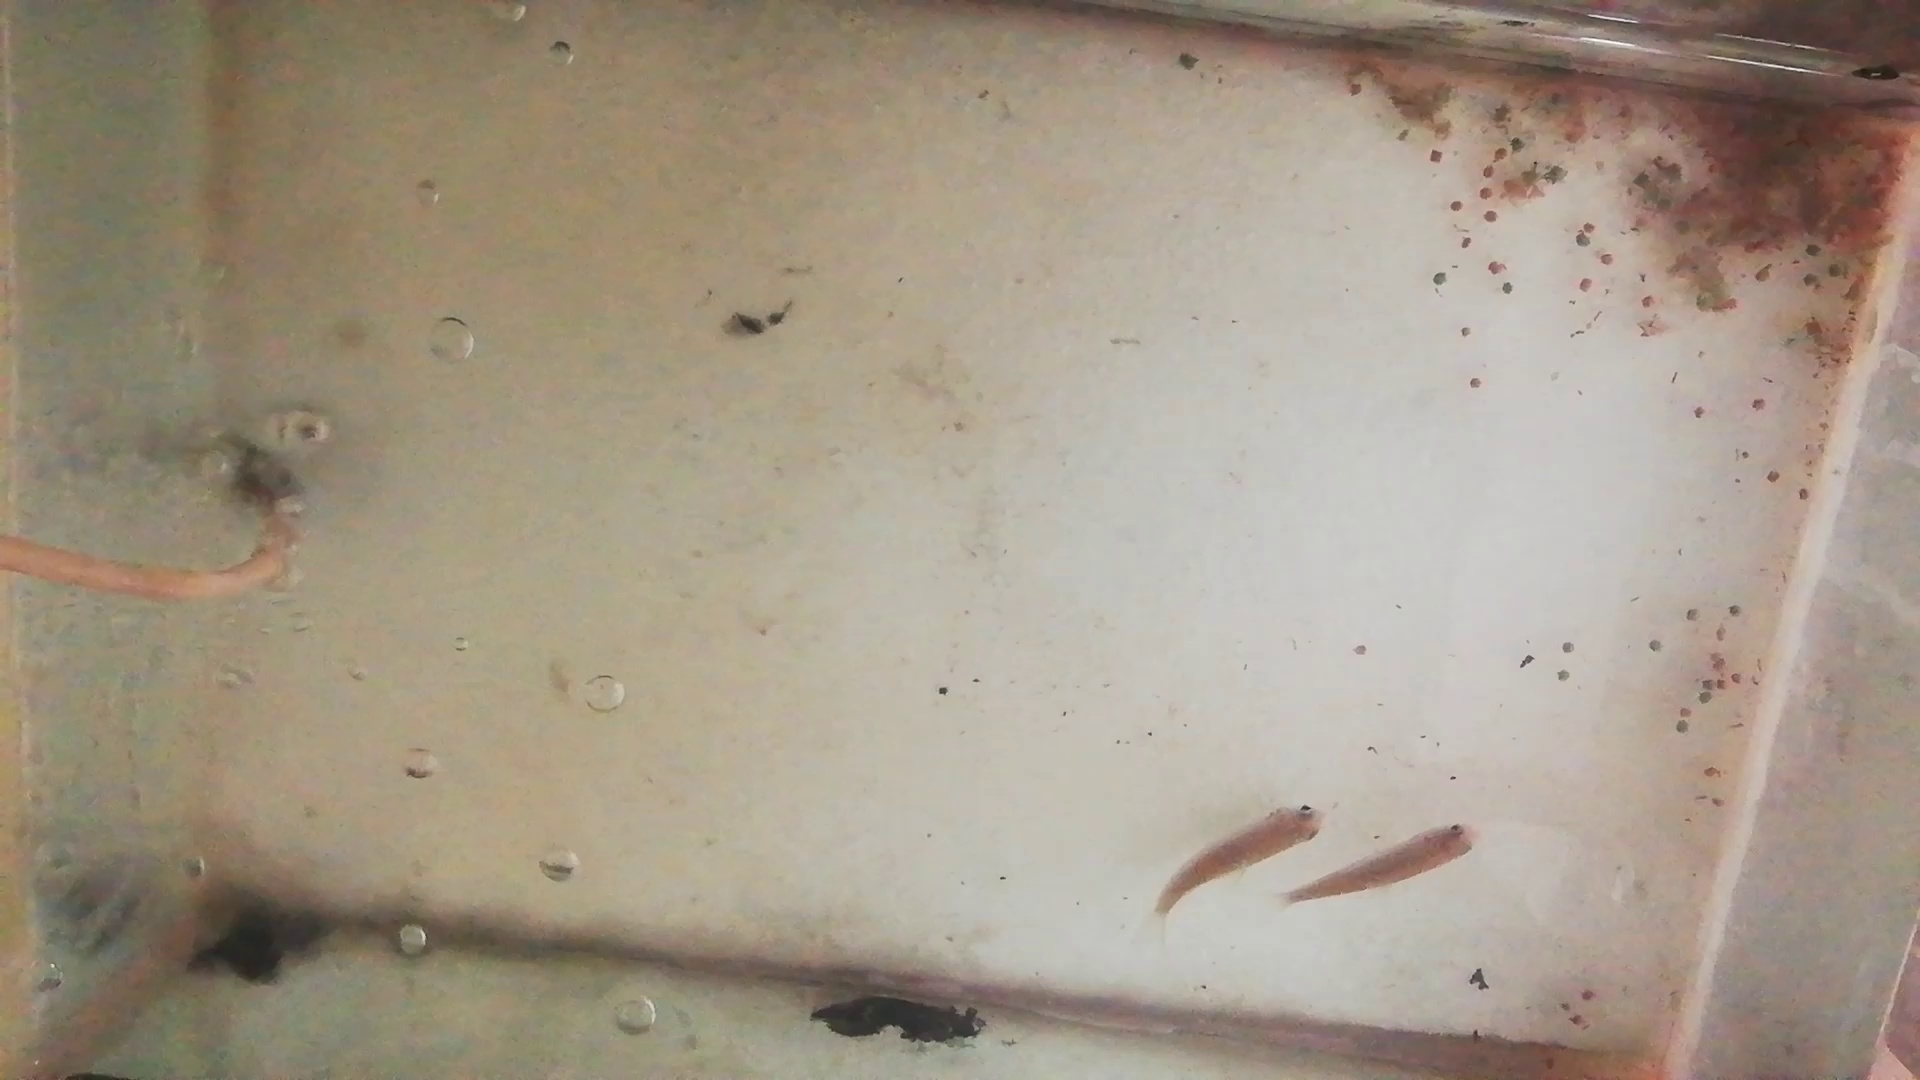fish: (1154, 803, 1329, 915), (1296, 823, 1481, 901)
